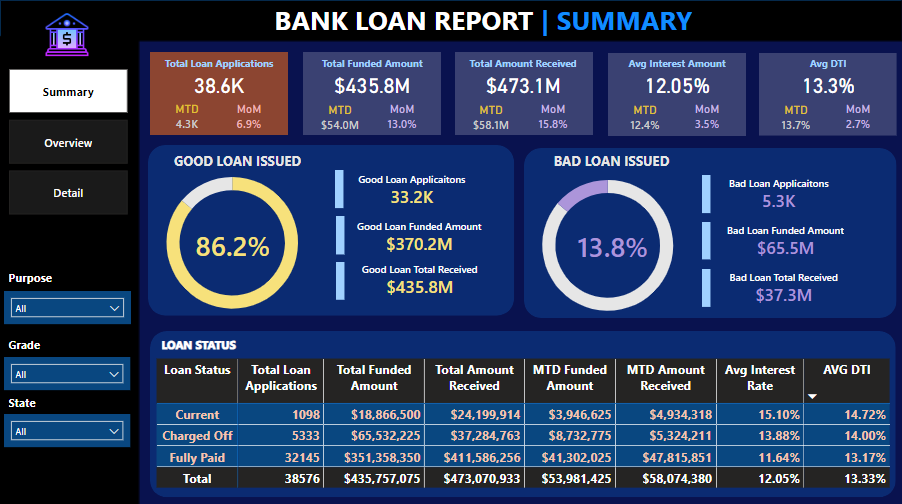

Layout of this report page (visuals, bound fields, positions):
{"tool":"powerbi","page":{"name":"Summary","canvas":[1280,720],"ordinal":0},"visuals":[{"type":"shape","box":[214.1,76.5,195.6,117.6],"z":0,"group":"g1"},{"type":"card","title":"Good Loan Applicaitons","fields":{"Values":["_Measure.Good_Loan_Applications"]},"box":[473.8,246.6,223.1,53.8],"z":0,"group":"g6"},{"type":"card","title":"Bad Loan Applicaitons","fields":{"Values":["_Measure.Bad_Loan_Applications"]},"box":[993.9,252.7,223.1,53.7],"z":0,"group":"g7"},{"type":"shape","box":[214.3,471.4,1057.1,235.7],"z":0},{"type":"card","fields":{"Values":["_Measure.Total_Loan_Applications"]},"box":[214.1,103.8,195.5,37.6],"z":1000,"group":"g1"},{"type":"card","fields":{"Values":["_Measure.Total_Fund"]},"box":[430.6,103.8,195.5,37.6],"z":1000,"group":"g2"},{"type":"card","fields":{"Values":["_Measure.Avg_Interest"]},"box":[862.9,103.9,195.5,37.6],"z":1000,"group":"g4"},{"type":"card","fields":{"Values":["_Measure.Total_Payment"]},"box":[645.3,104.3,195.5,37.6],"z":1000,"group":"g3"},{"type":"card","fields":{"Values":["_Measure.AVG_DTI"]},"box":[1077,104.3,195.5,37.6],"z":1000,"group":"g5"},{"type":"shape","box":[210.8,208.1,518.9,241.9],"z":1000},{"type":"card","title":"Good Loan Funded Amount","fields":{"Values":["_Measure.Good_Loan_Fund"]},"box":[475.6,312.6,241.5,53.8],"z":1000,"group":"g6"},{"type":"card","title":"Bad Loan Funded Amount","fields":{"Values":["_Measure.Bad_Loan_Fund"]},"box":[993.2,319.3,242.4,53.9],"z":1000,"group":"g7"},{"type":"shape","box":[0,1.7,1280,60.5],"z":2000},{"type":"textbox","box":[213.8,77.7,195.8,34.4],"z":2000,"group":"g1"},{"type":"textbox","box":[430.3,77.8,195.8,34.4],"z":2000,"group":"g2"},{"type":"textbox","box":[862.6,77.9,195.8,34.4],"z":2000,"group":"g4"},{"type":"textbox","box":[645,78.3,195.8,34.4],"z":2000,"group":"g3"},{"type":"textbox","box":[1076.7,78.3,195.8,34.4],"z":2000,"group":"g5"},{"type":"card","title":"Good Loan Total Received","fields":{"Values":["_Measure.Good_Loan_Payment"]},"box":[477.4,373.8,237.2,53.7],"z":2000,"group":"g6"},{"type":"card","title":"Bad Loan Total Received","fields":{"Values":["_Measure.Bad_Loan_Payment"]},"box":[993.8,386,237.2,53.7],"z":2000,"group":"g7"},{"type":"shape","box":[0,54.1,198.6,666.2],"z":3000},{"type":"card","title":"MTD","fields":{"Values":["_Measure.MTD_Loan_Applications"]},"box":[214,148,105,46.5],"z":3000,"group":"g1"},{"type":"card","title":"MTD","fields":{"Values":["_Measure.MTD_Fund"]},"box":[430.5,148,105,46.5],"z":3000,"group":"g2"},{"type":"card","title":"MTD","fields":{"Values":["_Measure.MTD_interest"]},"box":[862.8,148.1,105,46.5],"z":3000,"group":"g4"},{"type":"card","title":"MTD","fields":{"Values":["_Measure.MTD_Payment"]},"box":[645.2,148.5,105,46.5],"z":3000,"group":"g3"},{"type":"card","title":"MTD","fields":{"Values":["_Measure.MTD_DTI"]},"box":[1076.9,148.5,105,46.5],"z":3000,"group":"g5"},{"type":"card","title":"MoM","fields":{"Values":["_Measure.MoM_Loan_Applications"]},"box":[299.1,147.4,110.6,46.8],"z":4000,"group":"g1"},{"type":"card","title":"MoM","fields":{"Values":["_Measure.MoM_Fund"]},"box":[515.6,147.4,110.6,46.8],"z":4000,"group":"g2"},{"type":"card","title":"MoM","fields":{"Values":["_Measure.MoM_Interest"]},"box":[947.9,147.5,110.6,46.8],"z":4000,"group":"g4"},{"type":"card","title":"MoM","fields":{"Values":["_Measure.MoM_Payment"]},"box":[730.3,147.9,110.6,46.8],"z":4000,"group":"g3"},{"type":"card","title":"MoM","fields":{"Values":["_Measure.MoM_DTI"]},"box":[1162,147.9,110.6,46.8],"z":4000,"group":"g5"},{"type":"card","fields":{"Values":["_Measure.Good_Loan"]},"box":[233.3,326.1,195.7,47.8],"z":4000},{"type":"shape","box":[430.9,76.5,195.6,117.6],"z":5000},{"type":"shape","box":[646.3,76.5,195.6,117.6],"z":6000},{"type":"shape","box":[863.1,78,195.6,117.6],"z":7000},{"type":"shape","box":[1077.2,78,195,117],"z":8000},{"type":"textbox","box":[385.5,0,620.8,62.4],"z":9000},{"type":"slicer","fields":{"Values":["financial_loan.purpose"]},"box":[7.1,415.5,179.5,47.3],"z":10000},{"type":"textbox","box":[8.5,379.8,171.5,32.6],"z":11000},{"type":"textbox","box":[7.8,556.3,171.6,33.8],"z":12000},{"type":"slicer","fields":{"Values":["financial_loan.address_state"]},"box":[7.8,590.1,178.8,47.3],"z":13000},{"type":"textbox","box":[7.8,474.2,171.6,33.8],"z":14000},{"type":"slicer","fields":{"Values":["financial_loan.grade"]},"box":[7.8,508.1,178.8,47],"z":15000},{"type":"group","id":"g1","title":"Group 1","box":[213.8,76.5,195.8,118],"z":16000},{"type":"group","id":"g2","title":"Group 2","box":[430.3,77.8,196,117.2],"z":17000},{"type":"group","id":"g3","title":"Group 2","box":[645,78.3,196.7,116.7],"z":18000},{"type":"group","id":"g4","title":"Group 2","box":[862.6,77.9,196.3,116.6],"z":19000},{"type":"group","id":"g5","title":"Group 2","box":[1076.7,78.3,196.7,116.7],"z":20000},{"type":"donutChart","fields":{"Category":["financial_loan.Good v Bad Loan"],"Y":["_Measure.PMTD_Loan_Applications"]},"box":[135.1,225.7,391.9,243.2],"z":21000},{"type":"textbox","box":[214.1,212.9,248.2,42.4],"z":22000},{"type":"shape","box":[476.8,243.1,12.3,54],"z":23000},{"type":"shape","box":[477.3,309,12.3,54.5],"z":24000},{"type":"shape","box":[477.3,373.9,12.3,53.6],"z":25000},{"type":"group","id":"g6","title":"Group 3","box":[473.8,246.6,243.3,180.9],"z":26000},{"type":"shape","box":[743.6,212.8,528.2,241],"z":27000},{"type":"donutChart","fields":{"Category":["financial_loan.Good v Bad Loan"],"Y":["_Measure.PMTD_Loan_Applications"]},"box":[666.2,229.7,393.2,241.9],"z":28000},{"type":"textbox","box":[744.1,212.6,248,42.5],"z":29000},{"type":"group","id":"g7","title":"Group 3","box":[993.2,252.7,241.9,187.8],"z":30000},{"type":"shape","box":[997,251.1,12.2,54],"z":31000,"group":"g8"},{"type":"card","fields":{"Values":["_Measure.Bad_Loan_%"]},"box":[771.8,328.2,195.3,47.1],"z":31000},{"type":"group","id":"g8","title":"Group 4","box":[997,251.1,12,188],"z":32000},{"type":"shape","box":[997,317.3,12,53.4],"z":32000,"group":"g8"},{"type":"shape","box":[997.1,385,12.2,53.7],"z":33000,"group":"g8"},{"type":"pivotTable","fields":{"Rows":["financial_loan.loan_status"],"Values":["_Measure.Total_Loan_Applications","_Measure.Total_Fund","_Measure.Total_Payment","_Measure.MTD_Fund","_Measure.MTD_Payment","_Measure.Avg_Interest","_Measure.AVG_DTI"]},"box":[218.3,506,1055.9,209.8],"z":33000},{"type":"textbox","box":[225.4,474.8,129,35.4],"z":34000},{"type":"image","box":[53.4,8.6,85.3,86.2],"z":34001},{"type":"pageNavigator","box":[14.7,100.9,168.1,207.8],"z":34002}]}

Visuals, with their boxes in screenshot pixels (x1, y1, x2, y2), scaled from the page's 1280x720 canvas onto the 902x504 screenshot:
shape: bbox=(151, 54, 289, 136)
"Good Loan Applicaitons" card: bbox=(334, 173, 491, 210)
"Bad Loan Applicaitons" card: bbox=(700, 177, 858, 214)
shape: bbox=(151, 330, 896, 495)
card - _Measure.Total_Loan_Applications: bbox=(151, 73, 289, 99)
card - _Measure.Total_Fund: bbox=(303, 73, 441, 99)
card - _Measure.Avg_Interest: bbox=(608, 73, 746, 99)
card - _Measure.Total_Payment: bbox=(455, 73, 593, 99)
card - _Measure.AVG_DTI: bbox=(759, 73, 897, 99)
shape: bbox=(149, 146, 514, 315)
"Good Loan Funded Amount" card: bbox=(335, 219, 505, 256)
"Bad Loan Funded Amount" card: bbox=(700, 224, 871, 261)
shape: bbox=(0, 1, 901, 44)
textbox: bbox=(151, 54, 289, 78)
textbox: bbox=(303, 54, 441, 79)
textbox: bbox=(608, 55, 746, 79)
textbox: bbox=(455, 55, 593, 79)
textbox: bbox=(759, 55, 897, 79)
"Good Loan Total Received" card: bbox=(336, 262, 504, 299)
"Bad Loan Total Received" card: bbox=(700, 270, 867, 308)
shape: bbox=(0, 38, 140, 503)
"MTD" card: bbox=(151, 104, 225, 136)
"MTD" card: bbox=(303, 104, 377, 136)
"MTD" card: bbox=(608, 104, 682, 136)
"MTD" card: bbox=(455, 104, 529, 136)
"MTD" card: bbox=(759, 104, 833, 136)
"MoM" card: bbox=(211, 103, 289, 136)
"MoM" card: bbox=(363, 103, 441, 136)
"MoM" card: bbox=(668, 103, 746, 136)
"MoM" card: bbox=(515, 104, 593, 136)
"MoM" card: bbox=(819, 104, 897, 136)
card - _Measure.Good_Loan: bbox=(164, 228, 302, 262)
shape: bbox=(304, 54, 441, 136)
shape: bbox=(455, 54, 593, 136)
shape: bbox=(608, 55, 746, 137)
shape: bbox=(759, 55, 897, 136)
textbox: bbox=(272, 0, 709, 44)
slicer - financial_loan.purpose: bbox=(5, 291, 131, 324)
textbox: bbox=(6, 266, 127, 289)
textbox: bbox=(5, 389, 126, 413)
slicer - financial_loan.address_state: bbox=(5, 413, 131, 446)
textbox: bbox=(5, 332, 126, 356)
slicer - financial_loan.grade: bbox=(5, 356, 131, 389)
"Group 1" group: bbox=(151, 54, 289, 136)
"Group 2" group: bbox=(303, 54, 441, 136)
"Group 2" group: bbox=(455, 55, 593, 136)
"Group 2" group: bbox=(608, 55, 746, 136)
"Group 2" group: bbox=(759, 55, 897, 136)
donutChart - financial_loan.Good v Bad Loan x _Measure.PMTD_Loan_Applications: bbox=(95, 158, 371, 328)
textbox: bbox=(151, 149, 326, 179)
shape: bbox=(336, 170, 345, 208)
shape: bbox=(336, 216, 345, 254)
shape: bbox=(336, 262, 345, 299)
"Group 3" group: bbox=(334, 173, 505, 299)
shape: bbox=(524, 149, 896, 318)
donutChart - financial_loan.Good v Bad Loan x _Measure.PMTD_Loan_Applications: bbox=(469, 161, 747, 330)
textbox: bbox=(524, 149, 699, 179)
"Group 3" group: bbox=(700, 177, 870, 308)
shape: bbox=(703, 176, 711, 214)
card - _Measure.Bad_Loan_%: bbox=(544, 230, 682, 263)
"Group 4" group: bbox=(703, 176, 711, 307)
shape: bbox=(703, 222, 711, 259)
shape: bbox=(703, 270, 711, 307)
pivotTable - financial_loan.loan_status x _Measure.Total_Loan_Applications: bbox=(154, 354, 898, 501)
textbox: bbox=(159, 332, 250, 357)
image: bbox=(38, 6, 98, 66)
pageNavigator: bbox=(10, 71, 129, 216)
